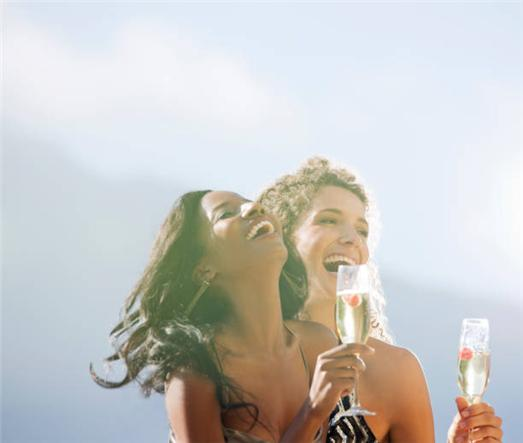alcohol: (337, 265, 375, 417), (458, 318, 490, 443)
